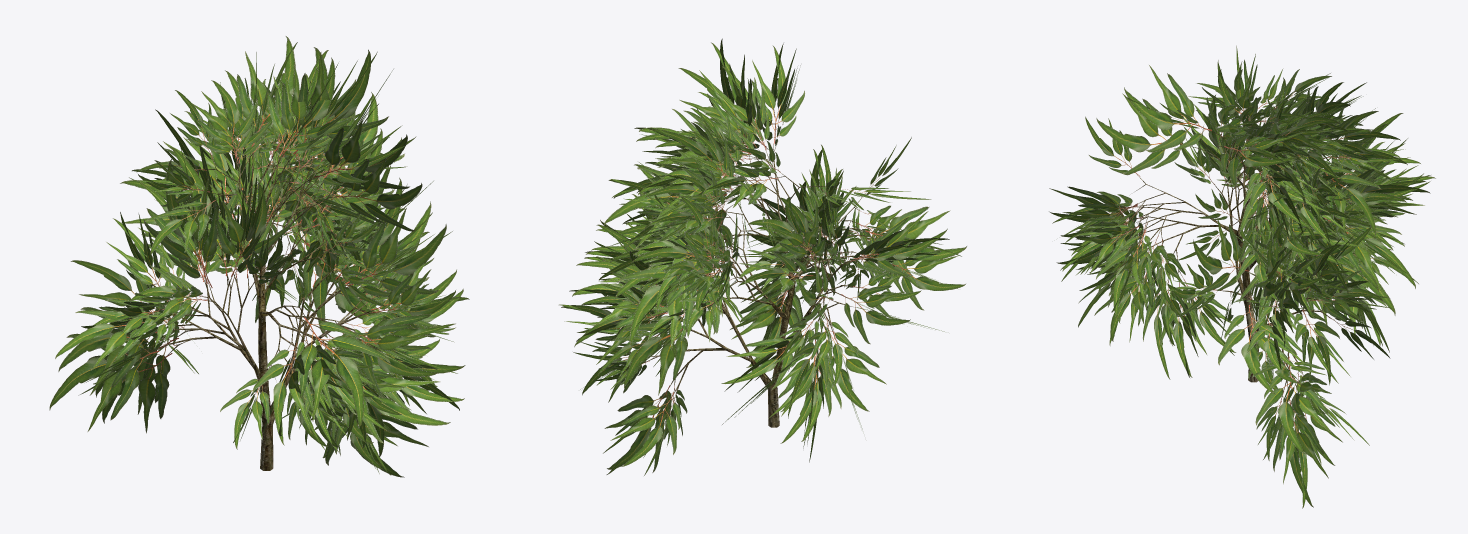
The model's file is SM_bush2.fbx.
3 renders of one model, left to right at view 1: azimuth 30°, elevation 25°; view 2: azimuth 150°, elevation 25°; view 3: azimuth 270°, elevation 25°, orthographic. The views are drawn at different scales.
Visible parts, largest first — view 1: SM_bush2; view 2: SM_bush2; view 3: SM_bush2.
Boxes of the visible parts, bbox=[...] form: SM_bush2: bbox=[49, 36, 469, 477]; SM_bush2: bbox=[558, 38, 966, 475]; SM_bush2: bbox=[1049, 45, 1435, 508].
Size of the model in its own units: 137 by 134 by 160.
2 materials, 2 textured.
